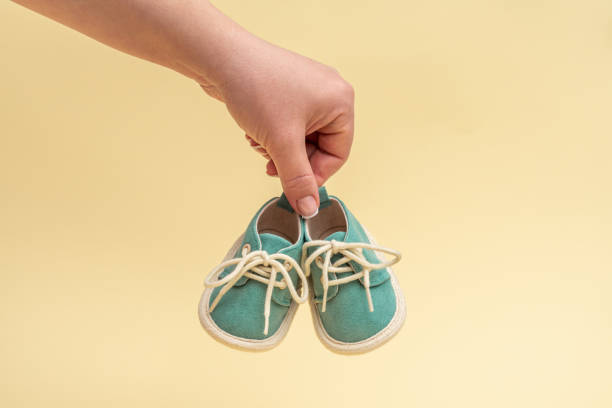Footwear: (197, 191, 307, 352)
